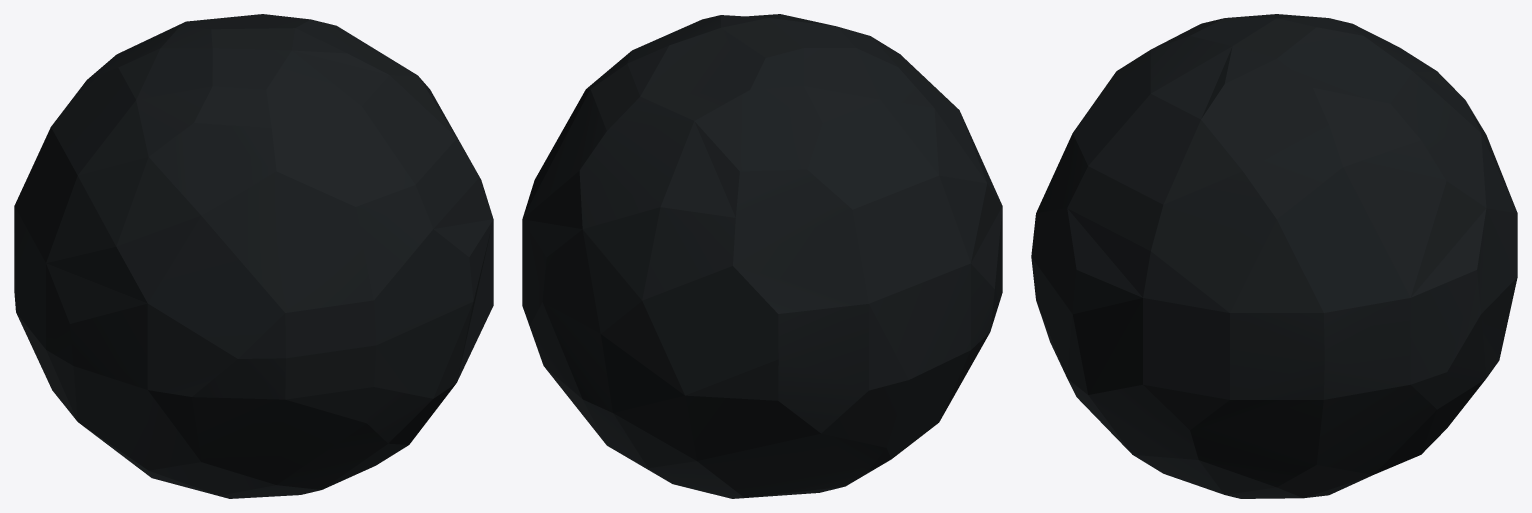
File: Planet.FBX
3 views of the same model, side by side, from view 1: azimuth 30°, elevation 25°; view 2: azimuth 150°, elevation 25°; view 3: azimuth 270°, elevation 25° (orthographic).
Visible parts, largest first — view 1: Planet; view 2: Planet; view 3: Planet.
Boxes of the visible parts, left/top/right/bottom form: Planet: left=14, top=14, right=493, bottom=498; Planet: left=522, top=14, right=1002, bottom=498; Planet: left=1031, top=14, right=1517, bottom=498.
Bounding box in the file's own units: 4083 × 4083 × 4123.
